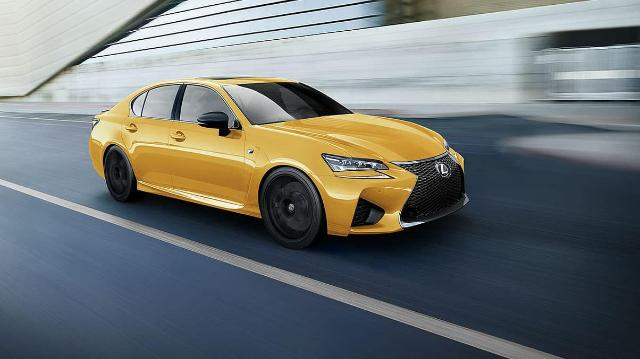lexus: (88, 76, 470, 249)
